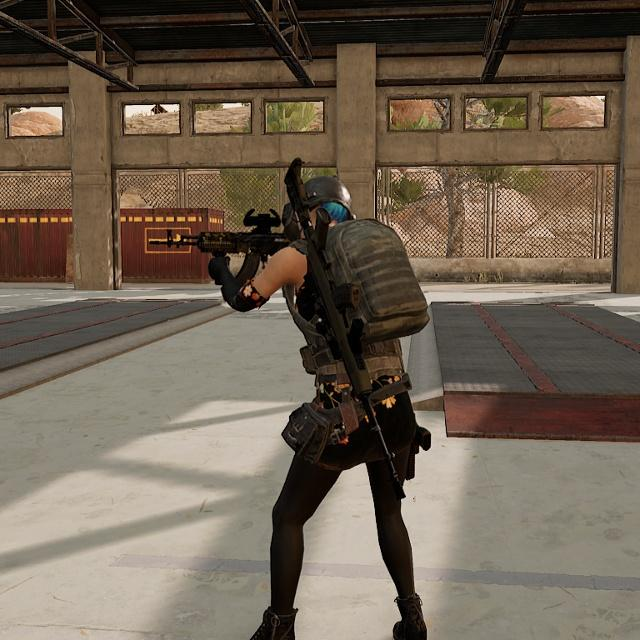head: (282, 166, 353, 237)
people: (223, 165, 440, 640)
